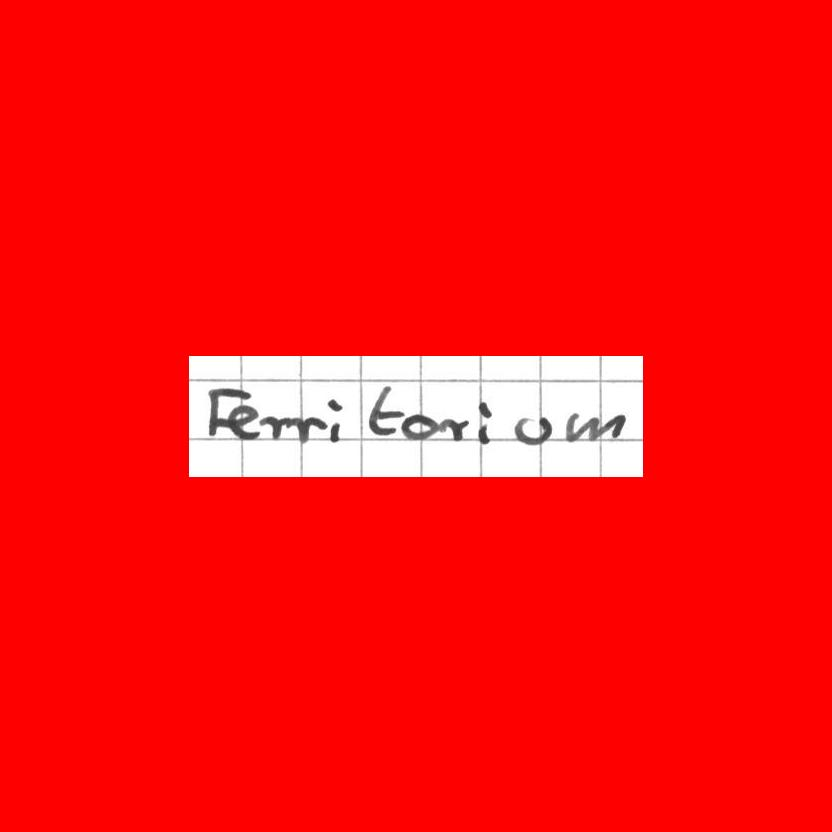Char: (561, 408, 627, 446), (366, 381, 402, 439), (205, 384, 240, 442), (509, 412, 557, 446), (400, 408, 442, 441), (227, 403, 260, 440), (290, 410, 324, 444), (475, 400, 496, 447), (325, 395, 344, 444), (438, 413, 472, 440), (261, 409, 290, 439)
